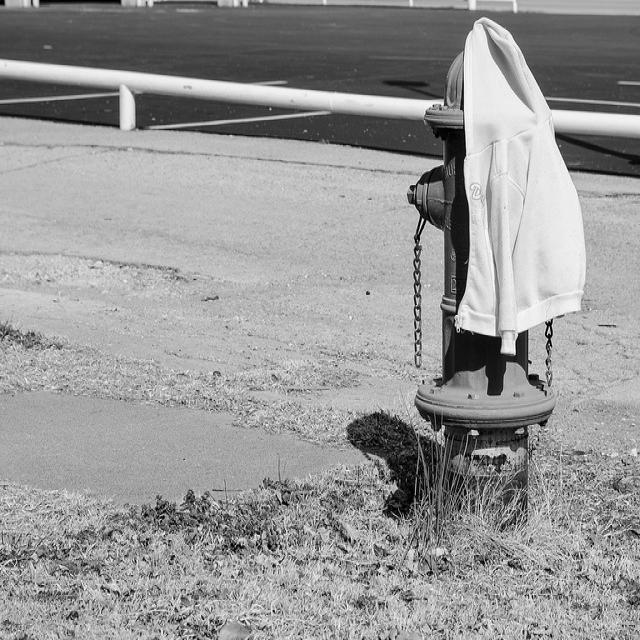fire_hydrant: (406, 50, 555, 531)
